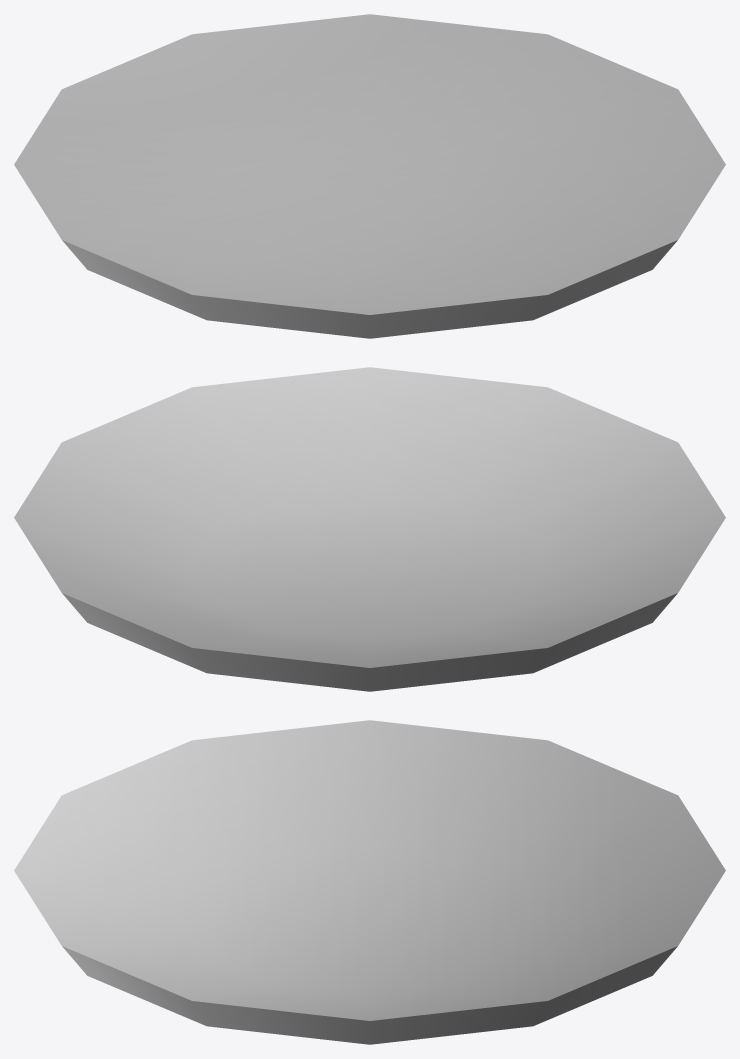
Rendered from PROP_028_Dish.fbx.
3 renders of one model, top to bottom at view 1: azimuth 30°, elevation 25°; view 2: azimuth 150°, elevation 25°; view 3: azimuth 270°, elevation 25°, orthographic.
Parts seen in each view (by area): view 1: PROP_028_Dish; view 2: PROP_028_Dish; view 3: PROP_028_Dish.
Boxes of the visible parts, left/top/right/bottom form: PROP_028_Dish: left=14, top=14, right=725, bottom=338; PROP_028_Dish: left=14, top=367, right=725, bottom=691; PROP_028_Dish: left=14, top=720, right=725, bottom=1044.
Size of the model in its own units: 7.71 by 1.02 by 7.71.
